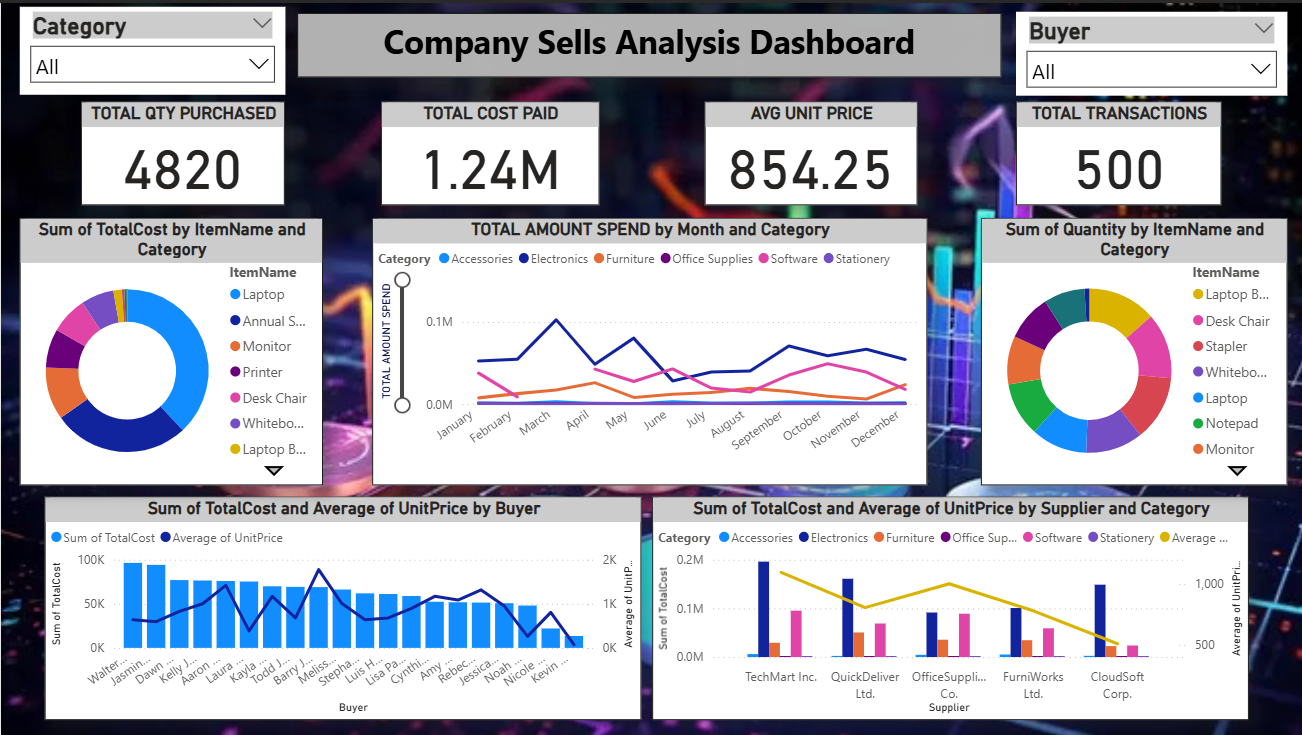

The page's visual inventory and layout, read from the dashboard file:
{"tool":"powerbi","page":{"name":"Page 1","canvas":[1280,720],"ordinal":0},"visuals":[{"type":"textbox","box":[290.9,9.6,691.6,63.1],"z":0},{"type":"card","title":"TOTAL QTY PURCHASED","fields":{"Values":["spend_data_analysis.Quantity"]},"box":[78.2,97.4,200.3,101.5],"z":1000},{"type":"card","title":"TOTAL COST PAID","fields":{"Values":["spend_data_analysis.TotalCost"]},"box":[373.2,97.4,214.1,101.5],"z":2000},{"type":"card","title":"AVG UNIT PRICE","fields":{"Values":["spend_data_analysis.UnitPrice"]},"box":[690.2,97.4,208.6,101.5],"z":3000},{"type":"card","title":"TOTAL TRANSACTIONS","fields":{"Values":["spend_data_analysis.TransactionID"]},"box":[996.2,97.4,201.7,101.5],"z":4000},{"type":"lineChart","fields":{"Category":["spend_data_analysis.PurchaseDate.Variation.Date Hierarchy.Quarter","spend_data_analysis.PurchaseDate.Variation.Date Hierarchy.Month"],"Y":["spend_data_analysis.TotalCost"],"Series":["spend_data_analysis.Category"]},"box":[365,211.3,544.8,262.1],"z":5000},{"type":"slicer","fields":{"Values":["spend_data_analysis.Category"]},"box":[17.8,4.1,260.7,86.4],"z":6000},{"type":"slicer","fields":{"Values":["spend_data_analysis.Buyer"]},"box":[996.2,8.2,266.2,82.3],"z":7000},{"type":"lineStackedColumnComboChart","fields":{"Category":["spend_data_analysis.Buyer"],"Y":["spend_data_analysis.TotalCost"],"Y2":["spend_data_analysis.UnitPrice"]},"box":[42.5,484.4,585.9,219.6],"z":8000},{"type":"lineClusteredColumnComboChart","fields":{"Category":["spend_data_analysis.Supplier"],"Y2":["spend_data_analysis.UnitPrice"],"Series":["spend_data_analysis.Category"],"Y":["spend_data_analysis.TotalCost"]},"box":[639.5,484.4,585.9,219.6],"z":9000},{"type":"donutChart","fields":{"Category":["spend_data_analysis.ItemName"],"Series":["spend_data_analysis.Category"],"Y":["spend_data_analysis.TotalCost"]},"box":[17.8,211.3,297.8,262.1],"z":10000},{"type":"donutChart","fields":{"Category":["spend_data_analysis.ItemName"],"Series":["spend_data_analysis.Category"],"Y":["spend_data_analysis.Quantity"]},"box":[961.9,211.3,300.5,262.1],"z":11000}]}

Visuals, with their boxes in screenshot pixels (x1, y1, x2, y2), scaled from the page's 1280x720 canvas onto the 1302x735 screenshot:
textbox: (296, 10, 999, 74)
"TOTAL QTY PURCHASED" card: (80, 99, 283, 203)
"TOTAL COST PAID" card: (380, 99, 597, 203)
"AVG UNIT PRICE" card: (702, 99, 914, 203)
"TOTAL TRANSACTIONS" card: (1013, 99, 1218, 203)
lineChart - spend_data_analysis.PurchaseDate.Variation.Date Hierarchy.Quarter x spend_data_analysis.PurchaseDate.Variation.Date Hierarchy.Month: (371, 216, 925, 483)
slicer - spend_data_analysis.Category: (18, 4, 283, 92)
slicer - spend_data_analysis.Buyer: (1013, 8, 1284, 92)
lineStackedColumnComboChart - spend_data_analysis.Buyer x spend_data_analysis.TotalCost: (43, 494, 639, 719)
lineClusteredColumnComboChart - spend_data_analysis.Supplier x spend_data_analysis.UnitPrice: (650, 494, 1246, 719)
donutChart - spend_data_analysis.ItemName x spend_data_analysis.Category: (18, 216, 321, 483)
donutChart - spend_data_analysis.ItemName x spend_data_analysis.Category: (978, 216, 1284, 483)
